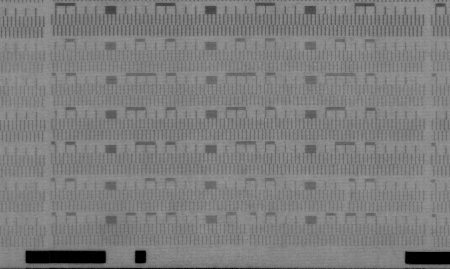Broken hole: (241, 224, 255, 247), (341, 189, 352, 213)
